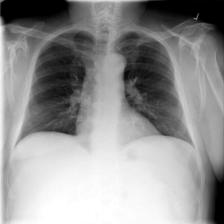normal: (9, 26, 201, 154)
